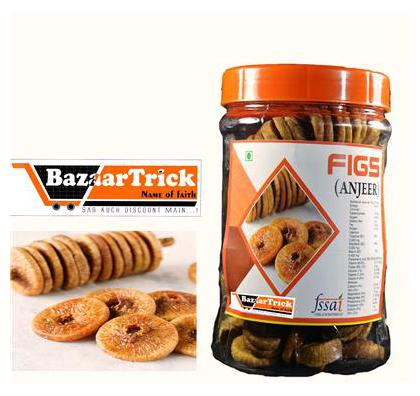JAR: (206, 60, 396, 381)
